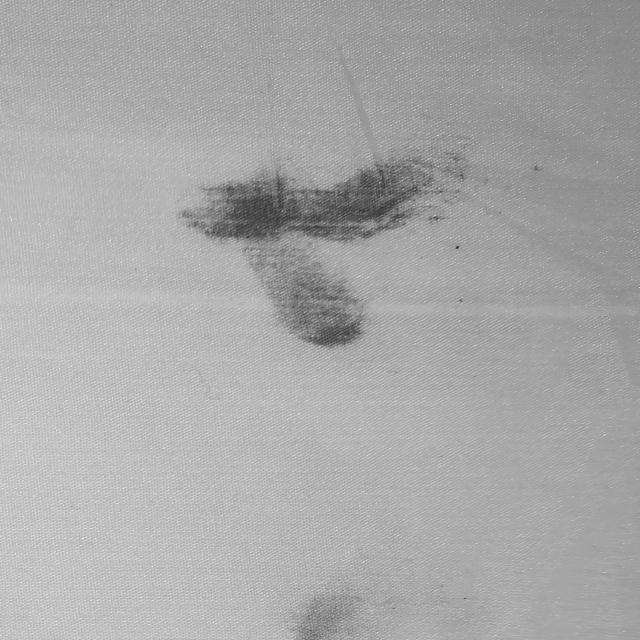Thread_other: (151, 66, 576, 398), (268, 578, 376, 640)
